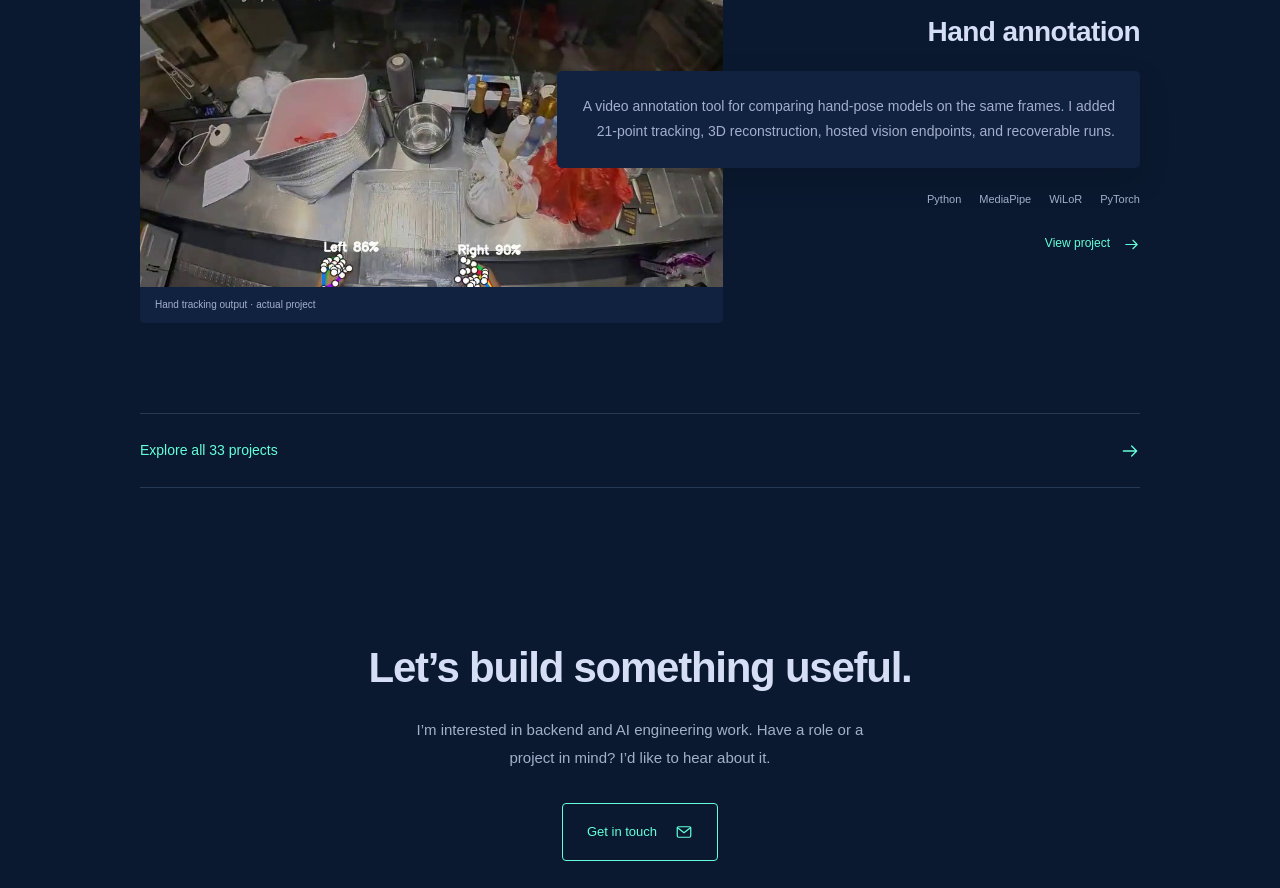
it: filters the complete archive and recovers an empty result
(page scrolled)
Click the heading "Explore all 33 projects": (175, 450) [140, 439, 1140, 462]
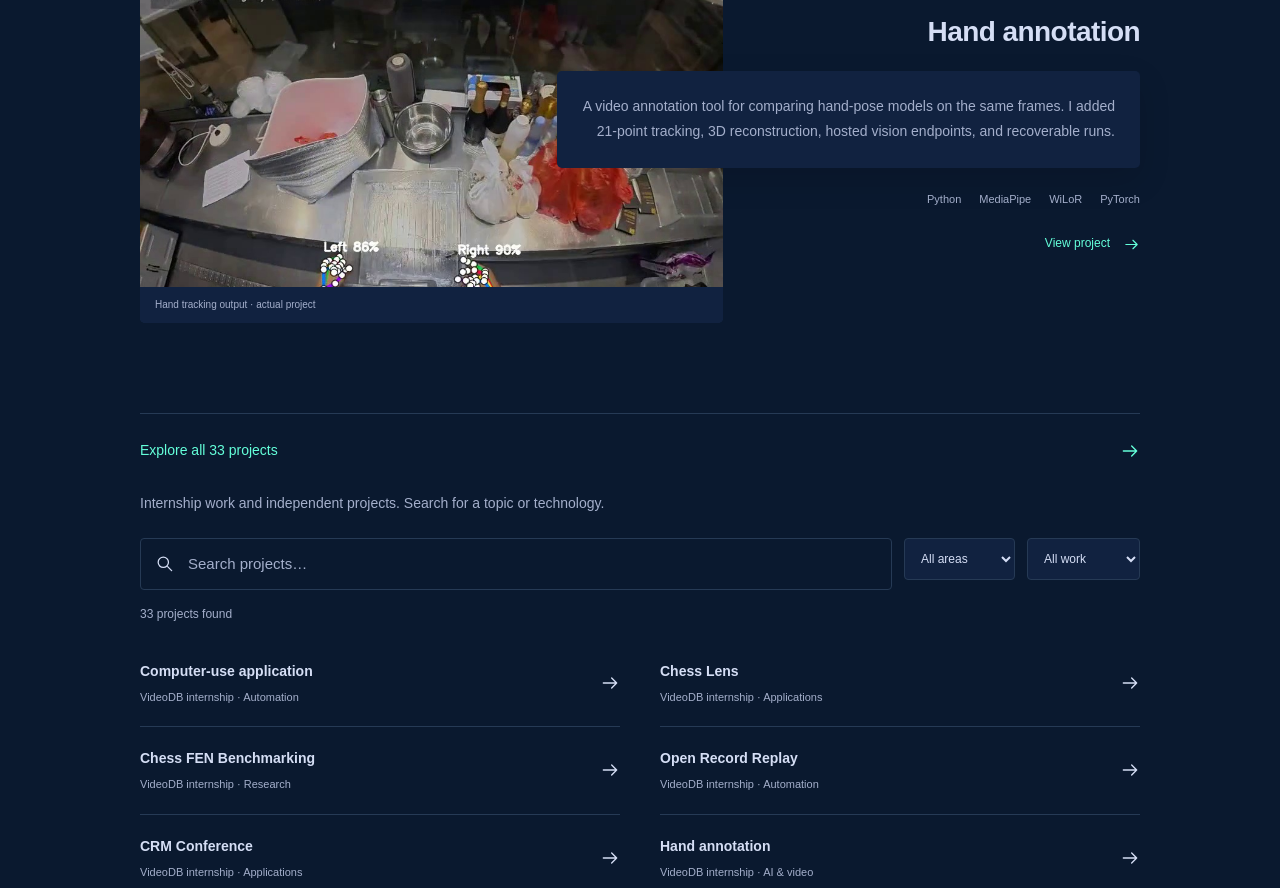
In the search field: (532, 564) [186, 550, 877, 577], type "no-such-project"
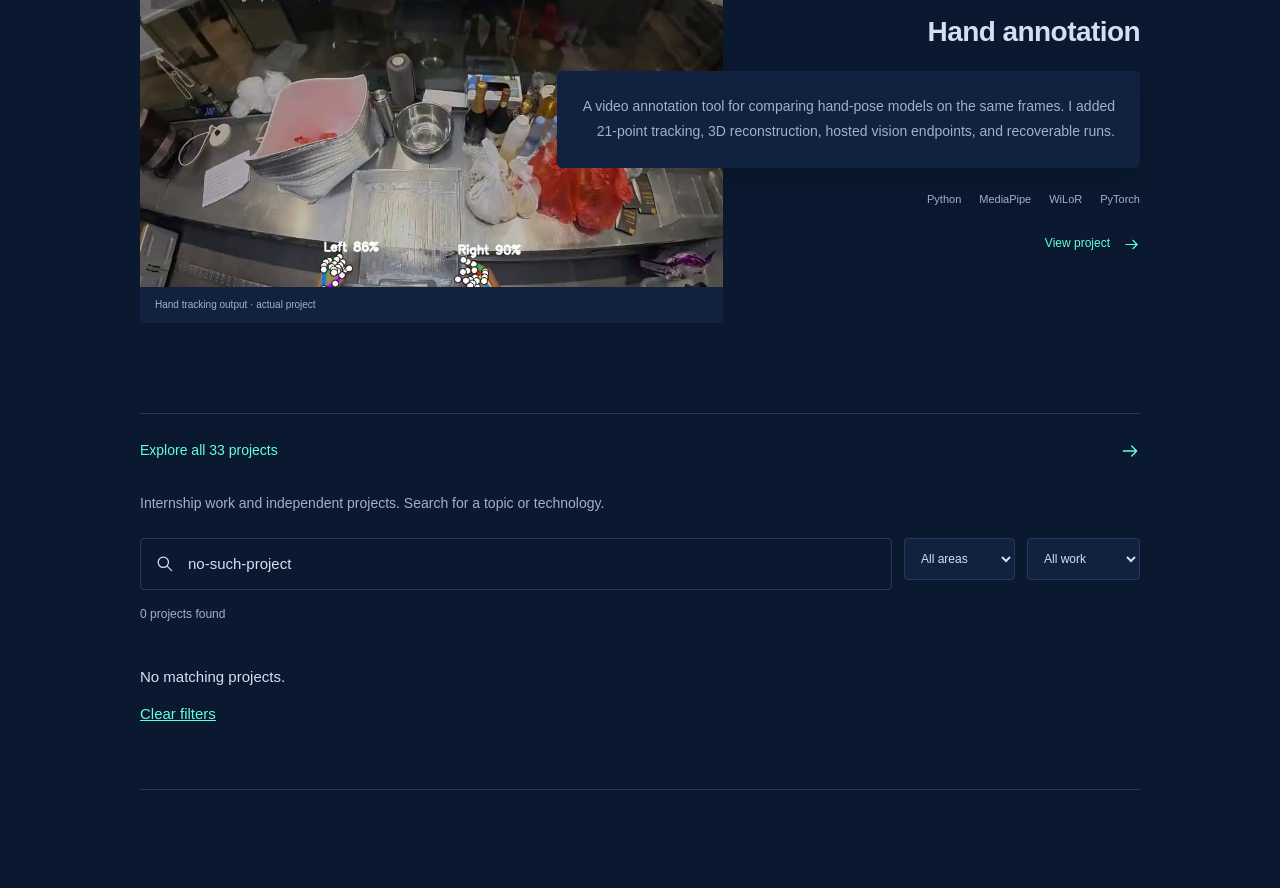
Now the text "No matching projects." is shown, box [140, 668, 285, 685]
Click the button "Clear filters": (178, 714) [140, 690, 216, 739]
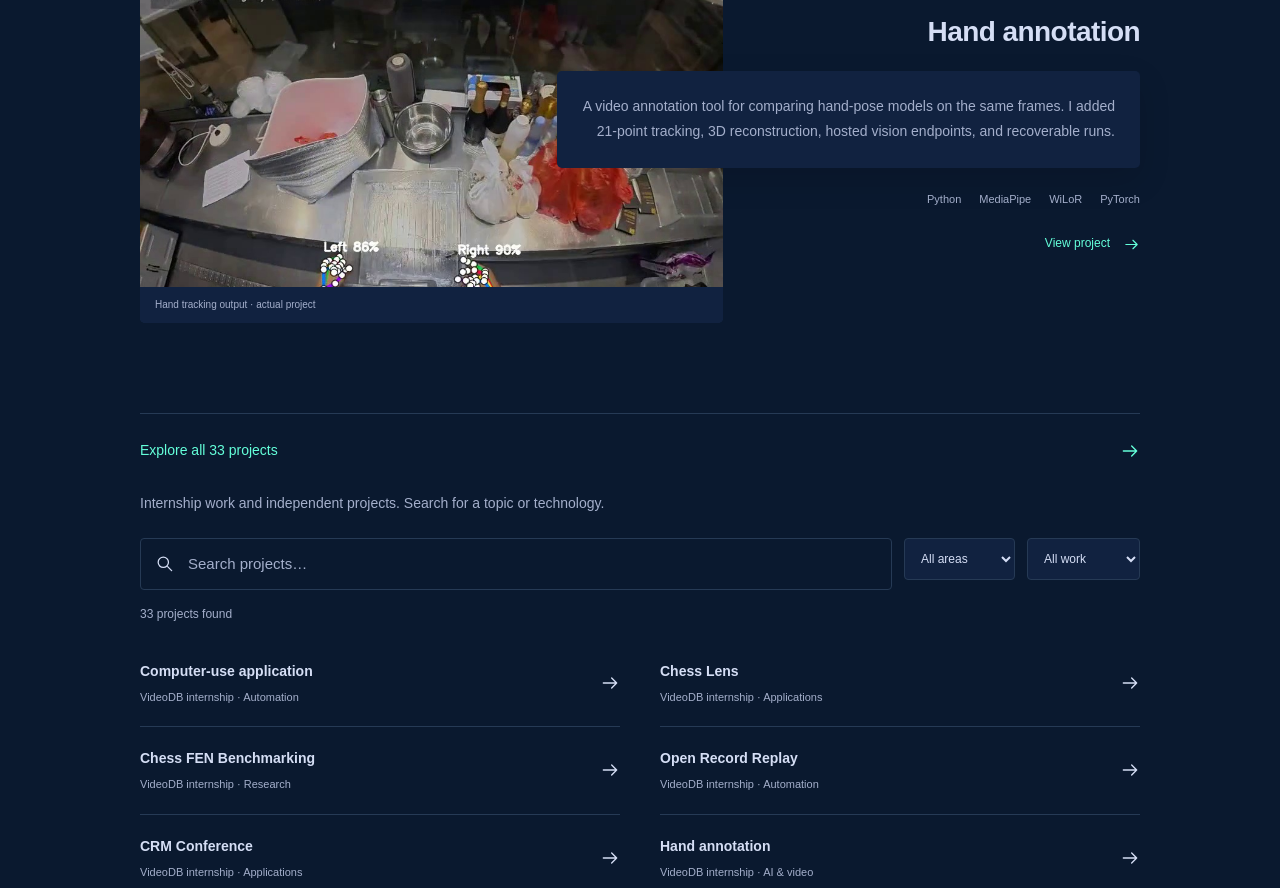
Now the message reads "33 projects found", box [140, 607, 232, 621]
Select "Independent" in the 2nd dropdown named "Filter by project origin": (1084, 558) [1027, 538, 1140, 580]
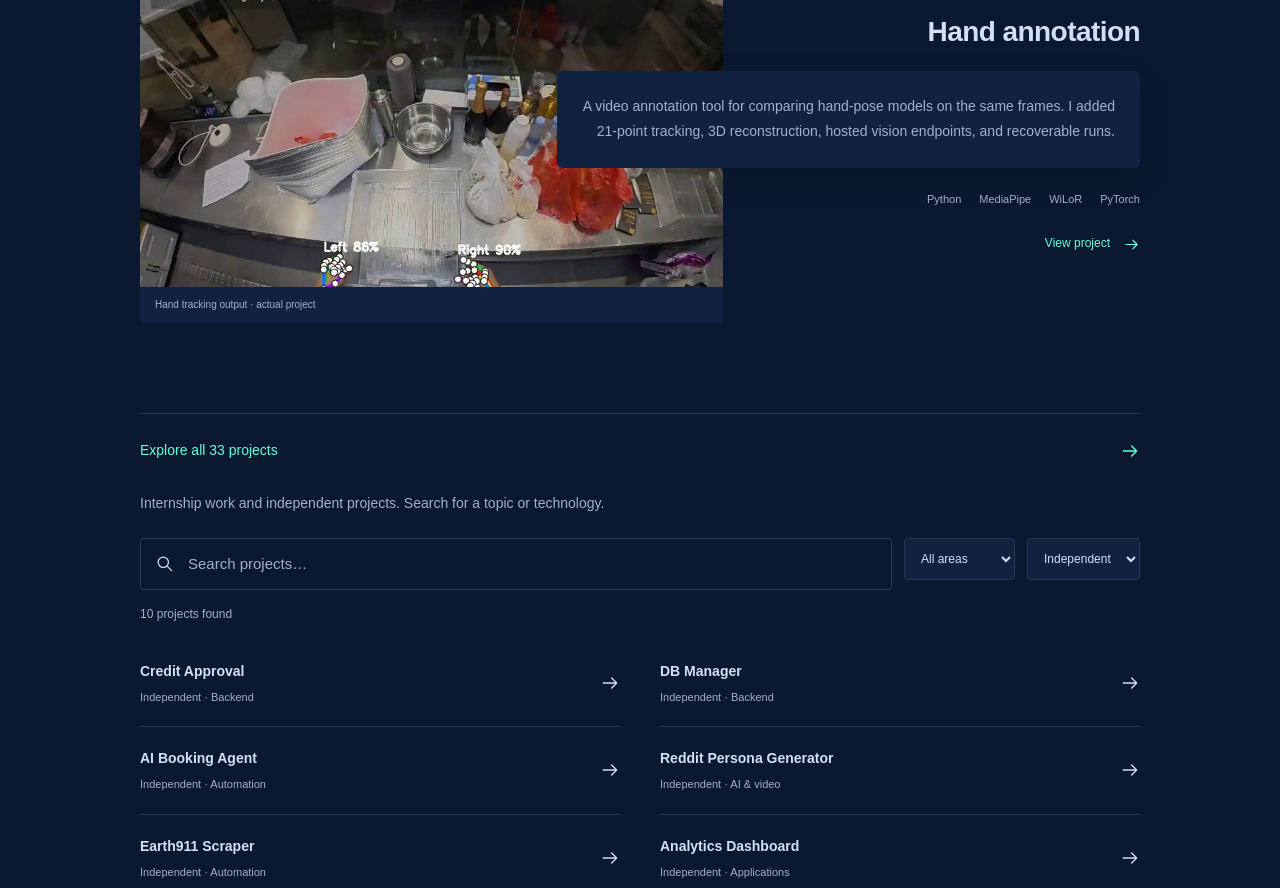
Now the message reads "10 projects found", box [140, 607, 232, 621]
